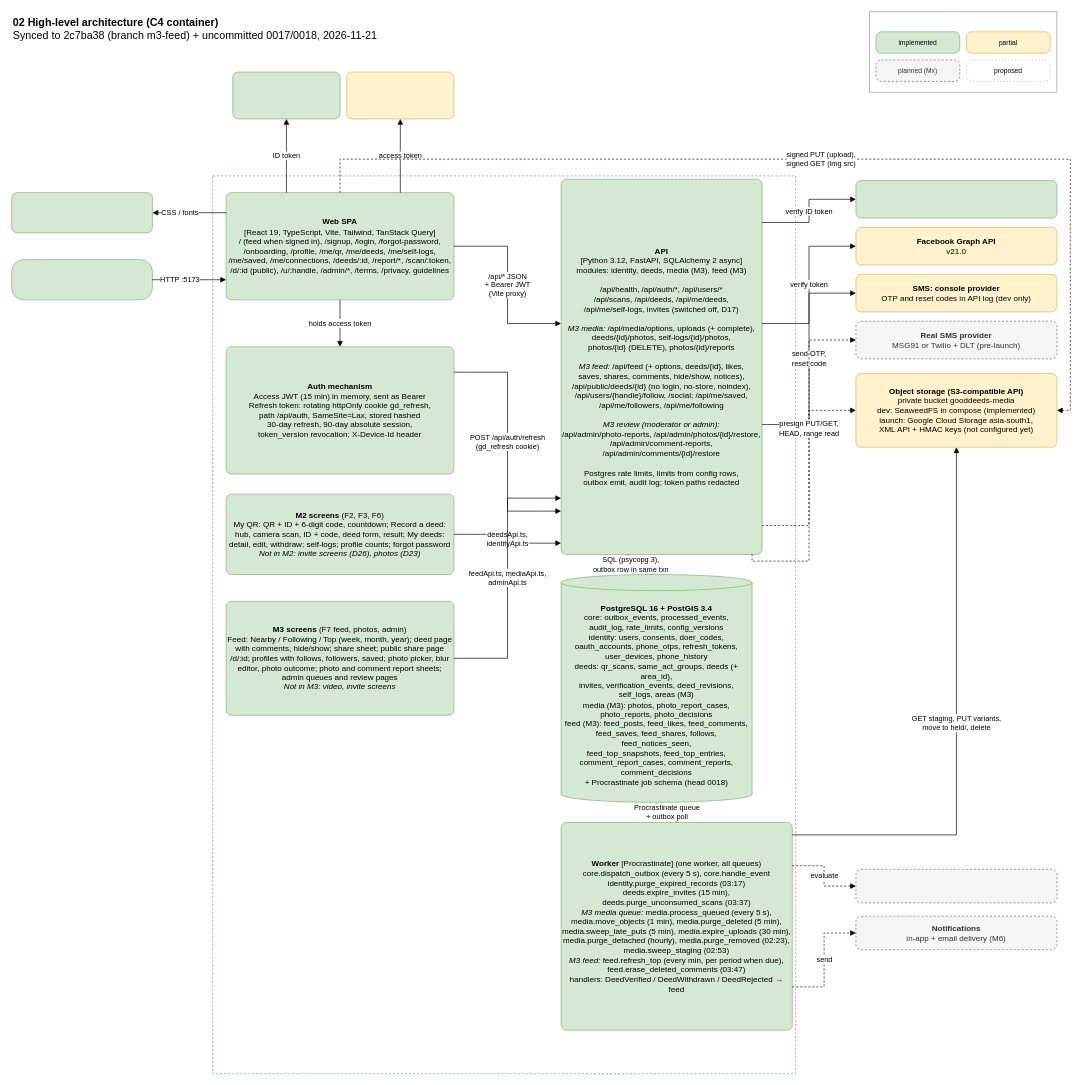
Some shapes in this 1087 by 1085 pixel diagram are drawn without their labels. The shapes that lost their labels are listed below. From the top down, each one's box as (x1, y1, x2, y2) in pixels, then its label:
(869, 11, 1057, 92): Legend
(232, 71, 340, 119): Google Identity Services gsi/client script
(346, 71, 454, 119): Facebook JS SDK connect.facebook.net
(11, 192, 152, 233): Google Fonts [CDN] Inter
(855, 180, 1057, 218): Google OAuth certs googleapis.com JWKS
(11, 259, 152, 300): Member / visitor [Person] mobile or desktop browser
(212, 175, 796, 1074): Good Deeds (modular monolith, one repo)
(855, 869, 1057, 903): AI impact evaluator ImpactEvaluator, shadow mode (M4)
